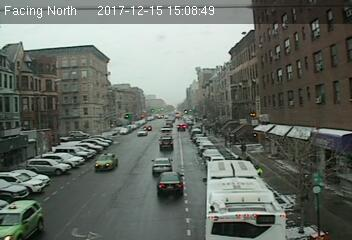bus: (203, 159, 286, 240)
car: (1, 198, 42, 240), (157, 171, 184, 194), (94, 152, 118, 172), (151, 158, 172, 174), (158, 135, 174, 151), (176, 123, 186, 130)
pedestrian: (240, 142, 247, 155)
